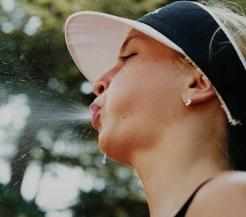Spitting: (43, 0, 246, 174)
